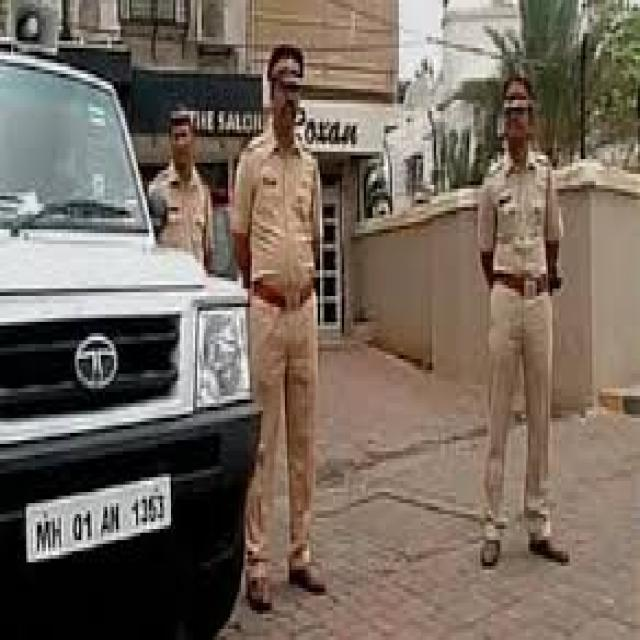plate: (20, 467, 178, 579)
